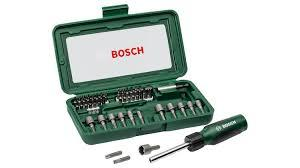screwdriver: (148, 113, 248, 162)
